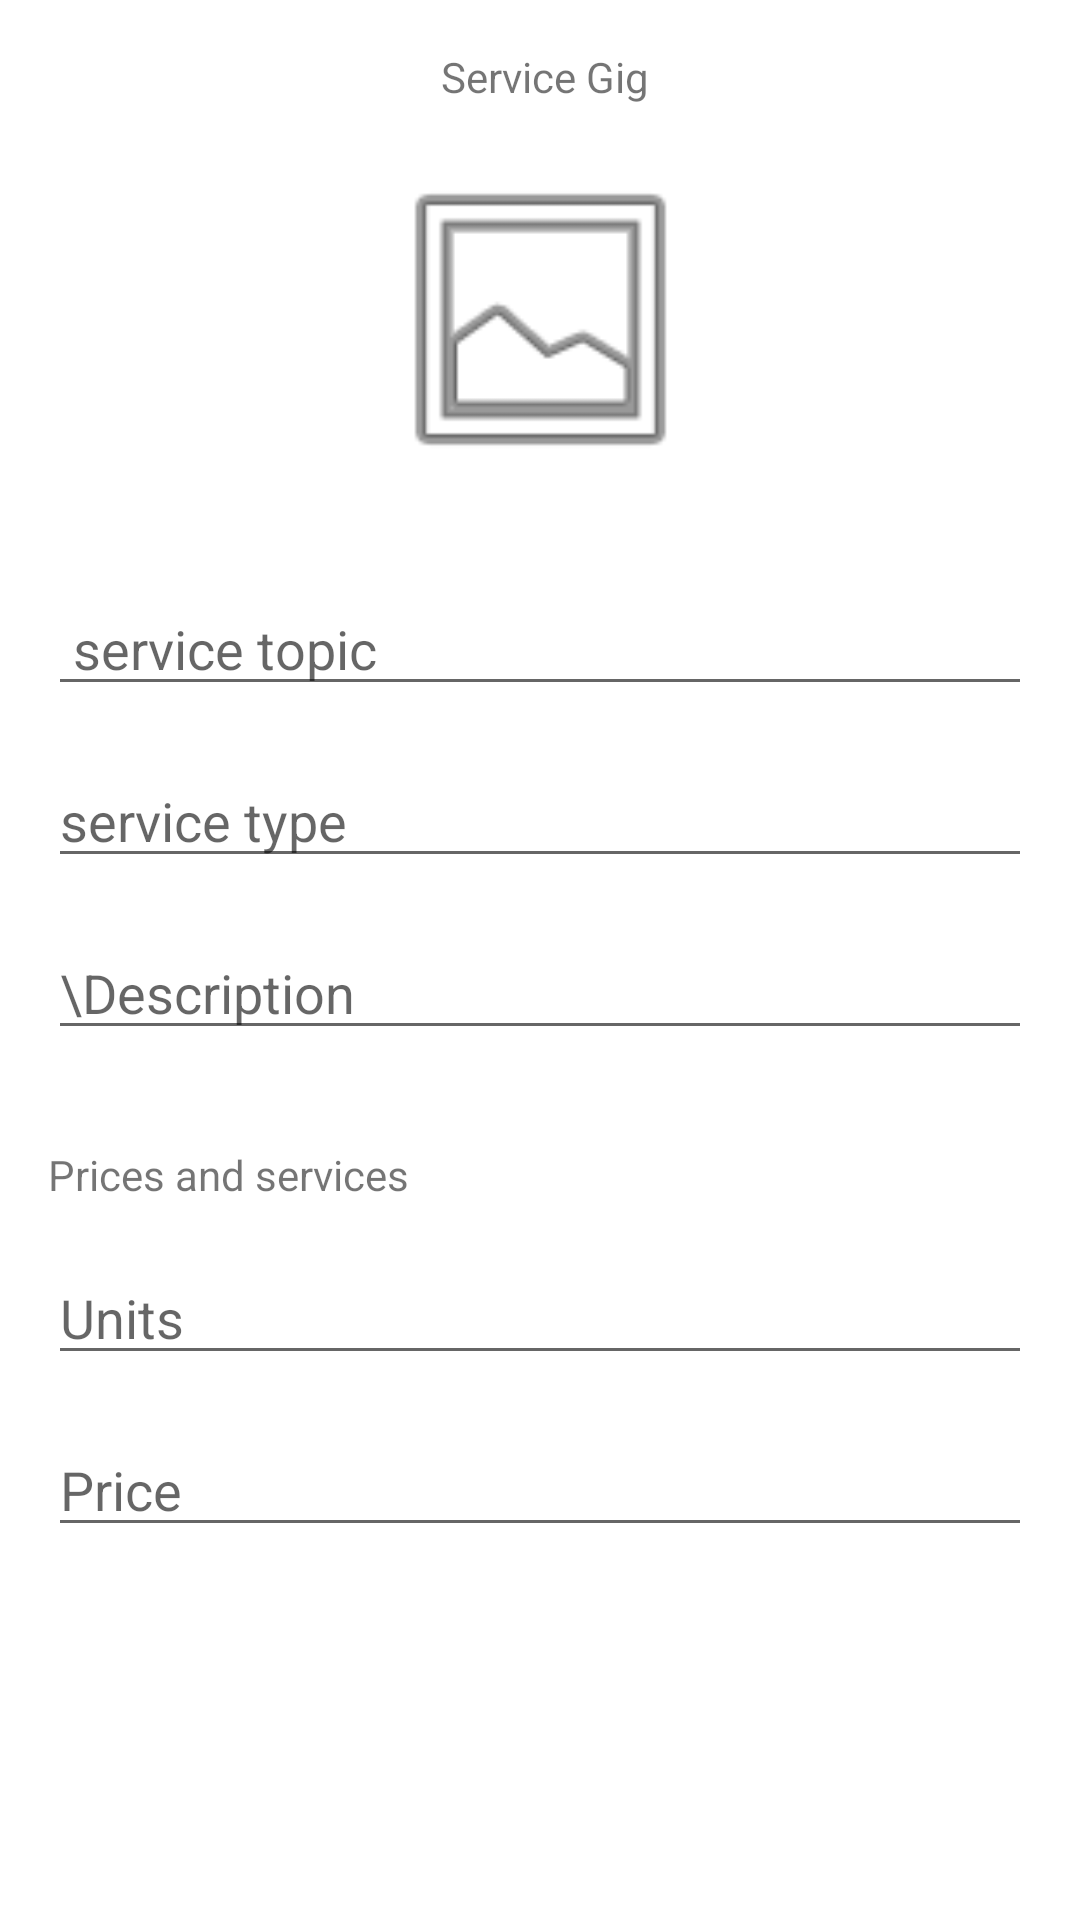

Named icons in this screenshot (1080*1920) and their bounding boxes, (x1, y1, x2, y2):
gallery: (415, 194, 666, 445)
